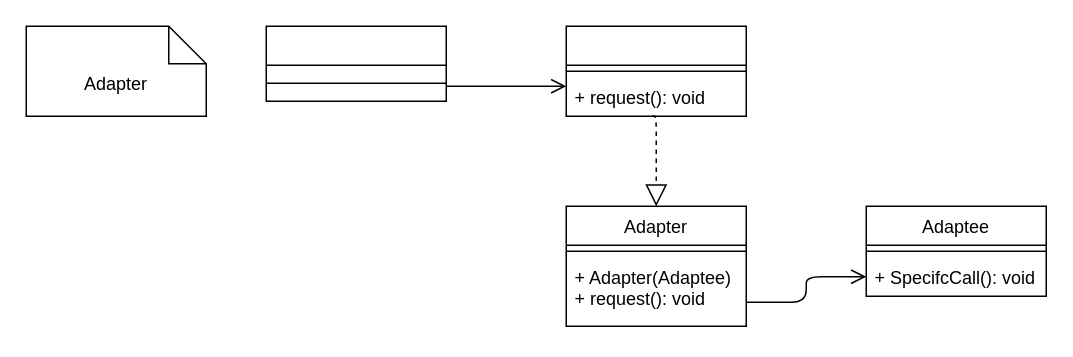
The diagram is 1073 pixels wide and 357 high, and some of its shapes have lost their labels. Here are the shapes that lost their labels. From the top down, the box of each, then its label:
(265, 25, 446, 101): Client
(565, 25, 746, 116): Target
